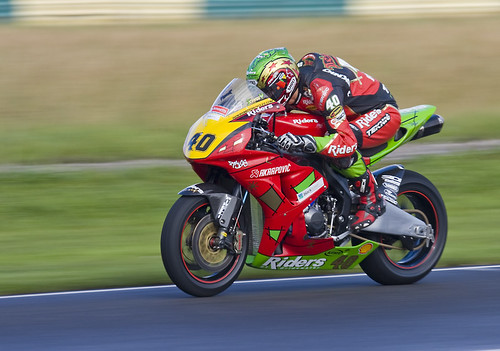helmet: (243, 42, 296, 103)
